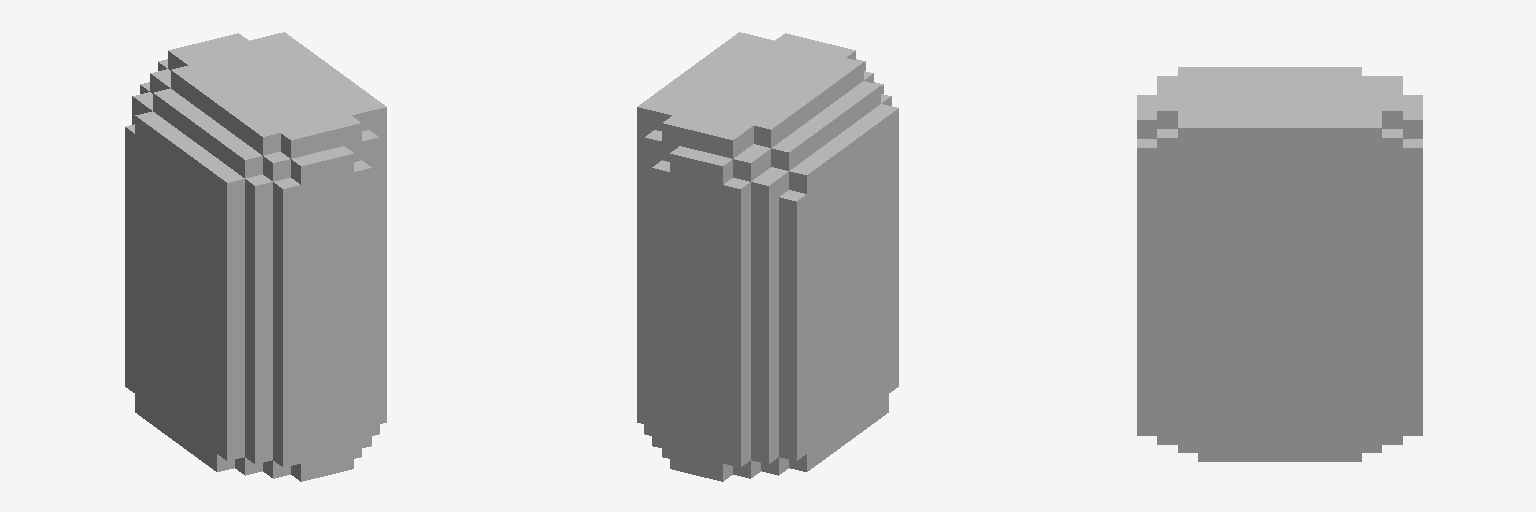
File: jager-3.obj
3 views of the same model, side by side, from view 1: azimuth 30°, elevation 25°; view 2: azimuth 150°, elevation 25°; view 3: azimuth 270°, elevation 25° (orthographic).
Visible parts, largest first — view 1: object 1; view 2: object 1; view 3: object 1.
Part boxes in pixels (x1,y1,x2,y2): object 1: (125, 32, 386, 481); object 1: (637, 32, 898, 481); object 1: (1137, 67, 1422, 461).
Size of the model in its own units: 0.9 by 1.8 by 1.4.